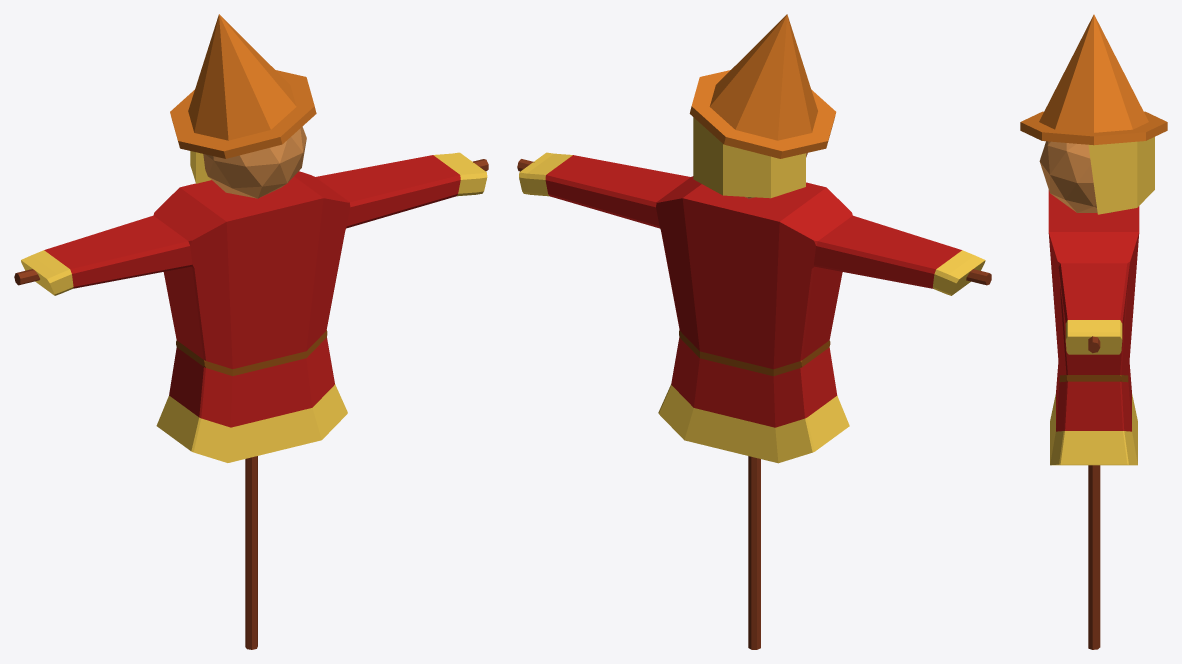
Rendered from EspantapajarosConPaja.fbx.
3 views of the same model, side by side, from view 1: azimuth 30°, elevation 25°; view 2: azimuth 150°, elevation 25°; view 3: azimuth 270°, elevation 25° (orthographic). The views are drawn at different scales.
Parts seen in each view (by area): view 1: Cone; view 2: Cone; view 3: Cone.
Part boxes in pixels (box(x1,y1,x2,y2)): Cone: box(14, 14, 488, 649); Cone: box(517, 14, 991, 649); Cone: box(1020, 14, 1167, 649).
Bounding box in the file's own units: 958 × 1253 × 270.
